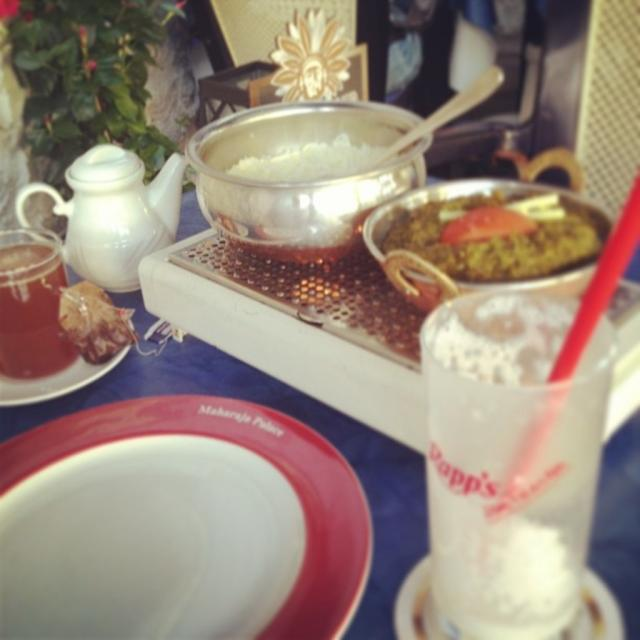non-organic waste: (3, 365, 378, 640), (339, 158, 637, 346), (198, 89, 454, 294)
